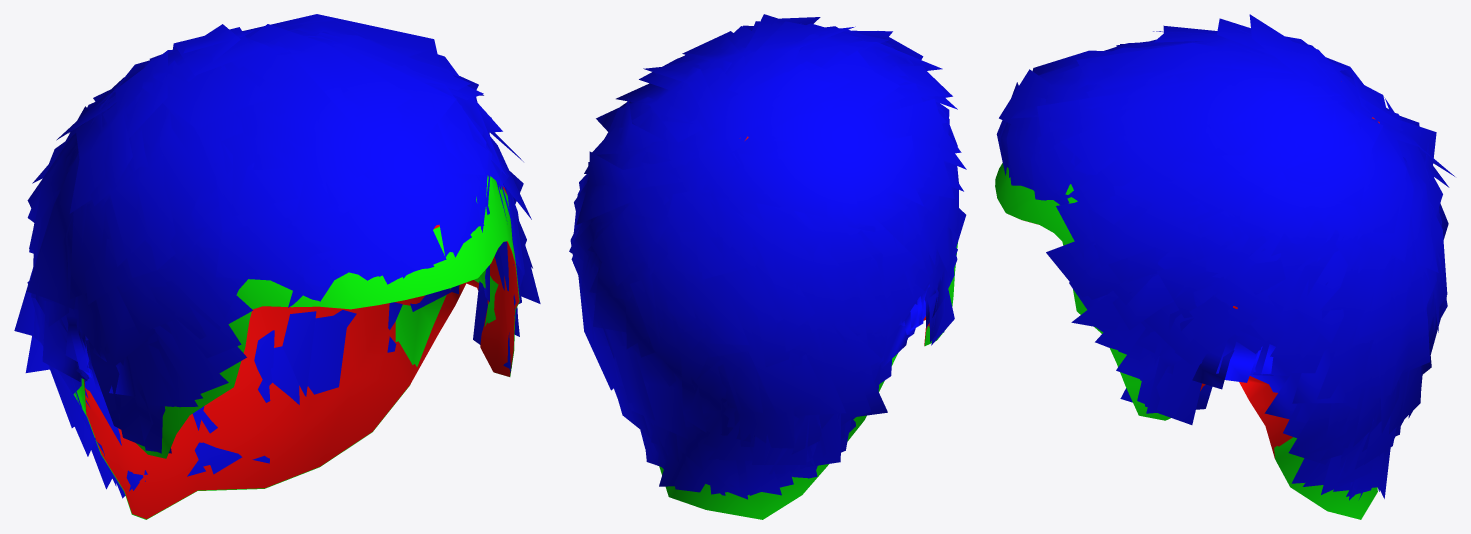
Rendered from hair_010.obj.
3 renders of one model, left to right at view 1: azimuth 30°, elevation 25°; view 2: azimuth 150°, elevation 25°; view 3: azimuth 270°, elevation 25°, orthographic. The views are drawn at different scales.
Bounding box in the file's own units: 18.19 × 20.86 × 19.3.
